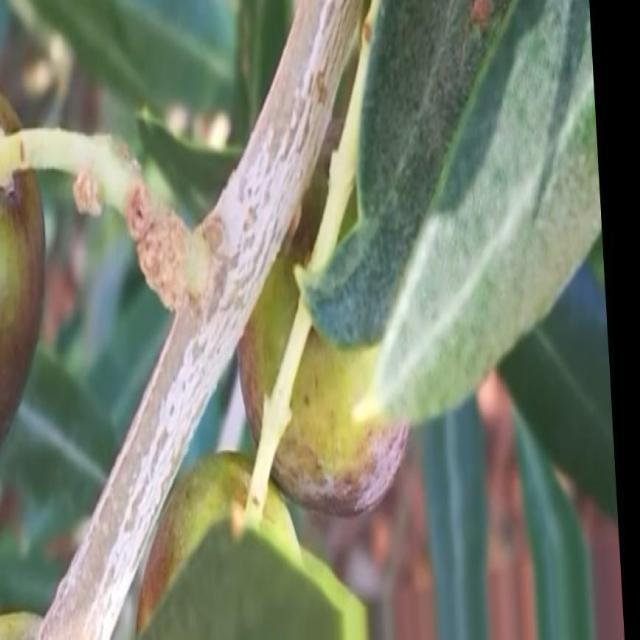Tuberculosis: (125, 178, 202, 312), (72, 170, 102, 217)
